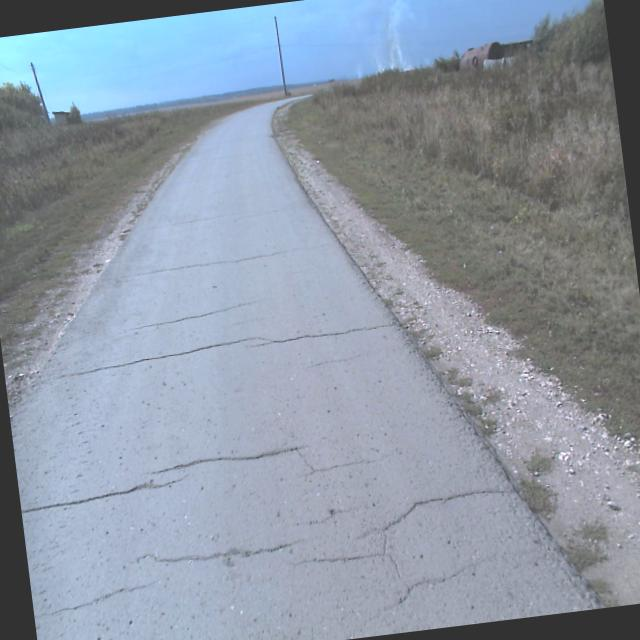road: (9, 93, 606, 640)
